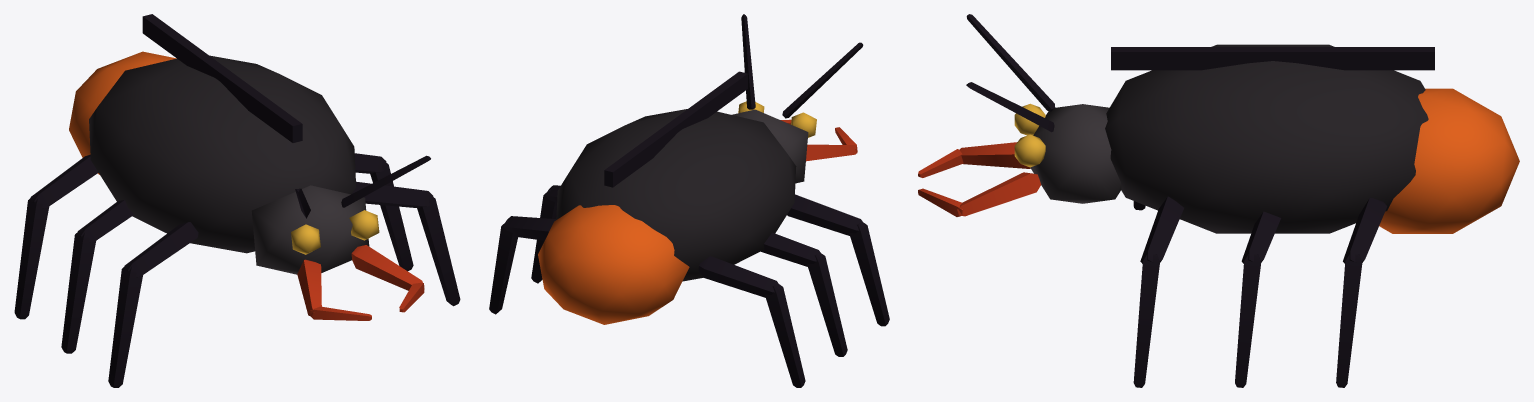
The model's file is e_magma_feuerkaefer.glb.
3 views of the same model, side by side, from view 1: azimuth 30°, elevation 25°; view 2: azimuth 150°, elevation 25°; view 3: azimuth 270°, elevation 25° (orthographic). The views are drawn at different scales.
Parts seen in each view (by area): view 1: body; view 2: body; view 3: body.
Boxes of the visible parts, <box> form: body: <box>14,14,460,387</box>; body: <box>489,14,889,387</box>; body: <box>918,14,1519,387</box>.
Bounding box in the file's own units: 1.34 × 0.8527 × 1.86.
